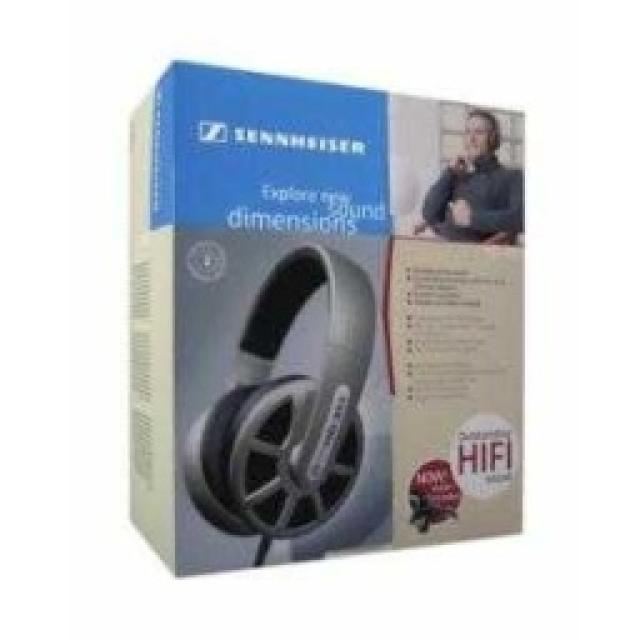headphones: (182, 240, 378, 540)
